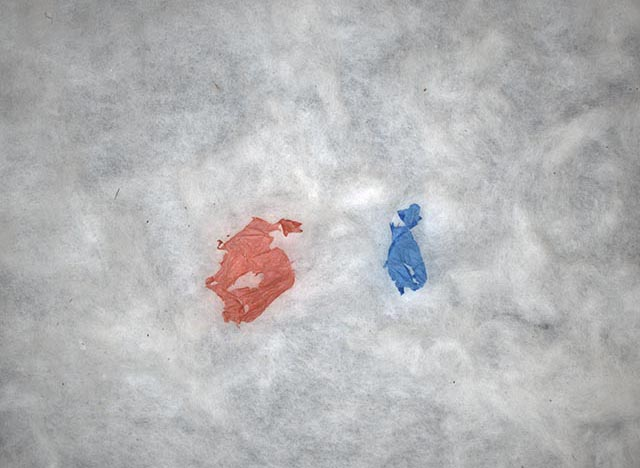plastic film: (205, 215, 304, 325), (383, 201, 429, 296)
